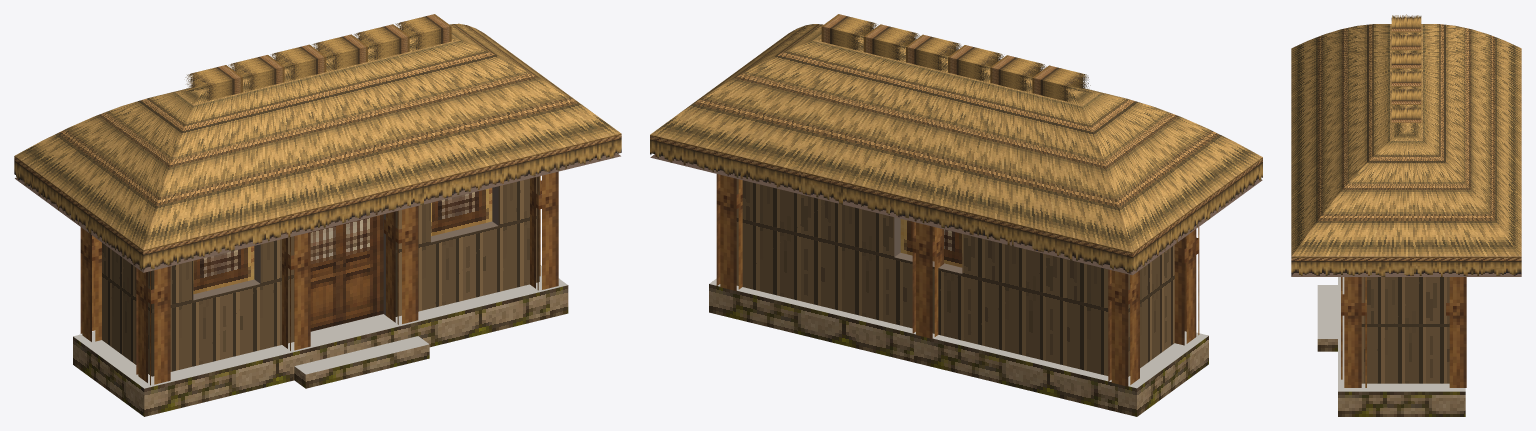
File: b_straw.glb
3 renders of one model, left to right at view 1: azimuth 30°, elevation 25°; view 2: azimuth 150°, elevation 25°; view 3: azimuth 270°, elevation 25°, orthographic. The views are drawn at different scales.
Visible parts, largest first — view 1: roof, plaster, post, stone, eave, ridge, door, stonetop, win, under, reveal; view 2: roof, plaster, stone, eave, post, ridge, stonetop, under, win; view 3: roof, plaster, post, eave, stone, ridge, stonetop, under.
Boxes of the visible parts, box(x1,y1,x2,y2) form: roof: box(15, 23, 620, 249); plaster: box(102, 176, 539, 376); post: box(80, 171, 558, 385); stone: box(73, 285, 568, 416); eave: box(14, 133, 621, 270); ridge: box(185, 14, 451, 101); door: box(310, 214, 383, 331); stonetop: box(73, 265, 567, 388); win: box(193, 188, 492, 294); under: box(15, 153, 620, 272); reveal: box(193, 186, 498, 315); roof: box(650, 24, 1262, 252); plaster: box(736, 179, 1174, 376); stone: box(709, 284, 1208, 416); eave: box(650, 135, 1262, 273); post: box(716, 174, 1199, 386); ridge: box(821, 14, 1090, 101); stonetop: box(709, 278, 1208, 388); under: box(650, 154, 1262, 275); win: box(900, 219, 962, 267); roof: box(1291, 24, 1521, 256); plaster: box(1361, 277, 1449, 383); post: box(1341, 277, 1466, 387); eave: box(1291, 257, 1521, 276); stone: box(1317, 339, 1465, 416); ridge: box(1391, 14, 1421, 122); stonetop: box(1317, 277, 1465, 391); under: box(1291, 256, 1521, 276).
Bounding box in the file's own units: 53 × 30.36 × 24.76.
13 materials, 9 textured.
